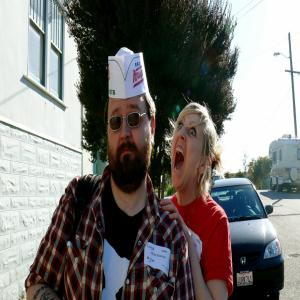Vehicle-registration-plate: (238, 271, 254, 287)
